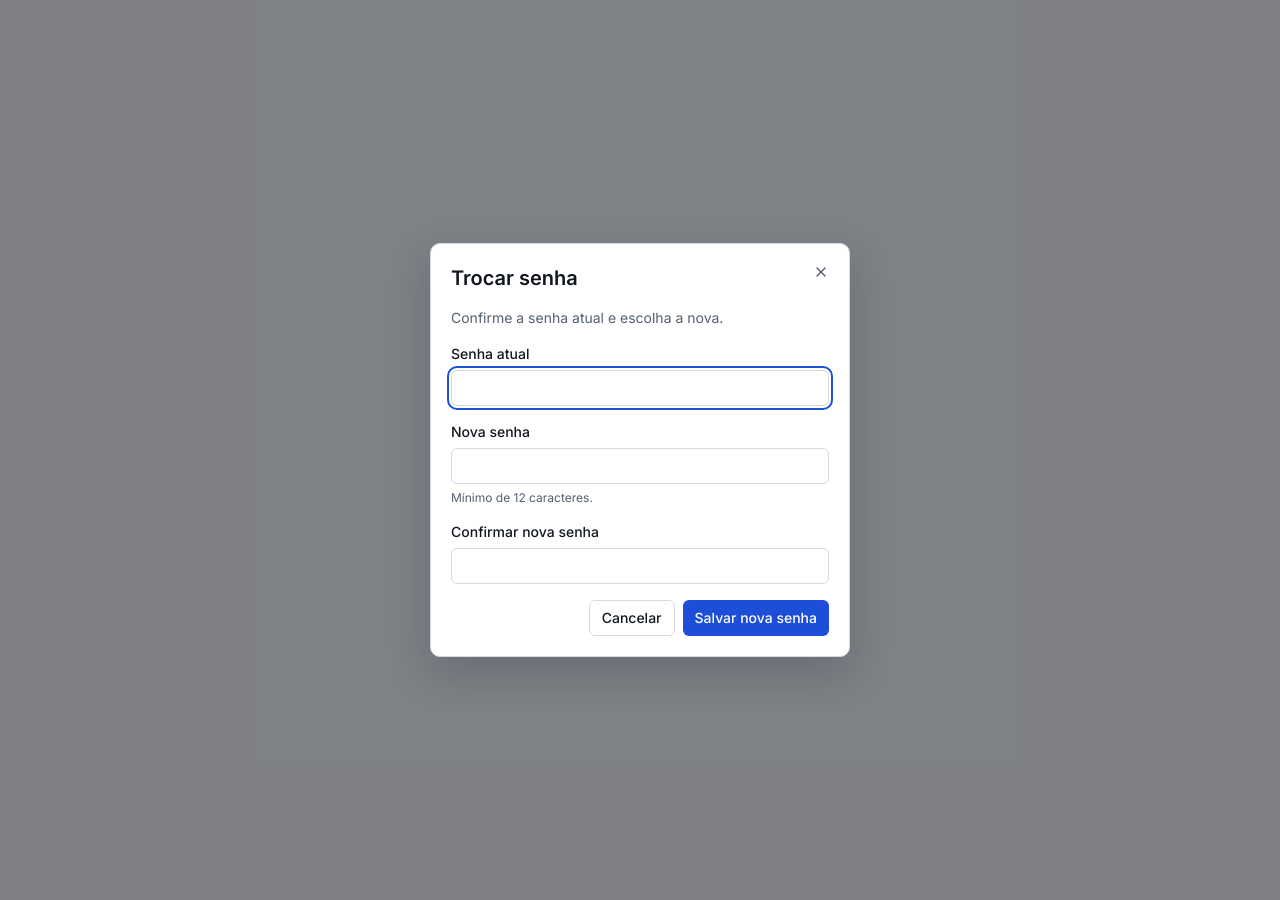
ChangePasswordDialog › avisa quando a confirmação é diferente da nova senha
This screenshot has width=1280, height=900.
In the password field labelled "Senha atual": (640, 388) [451, 370, 829, 406], type "ana.logos2026"
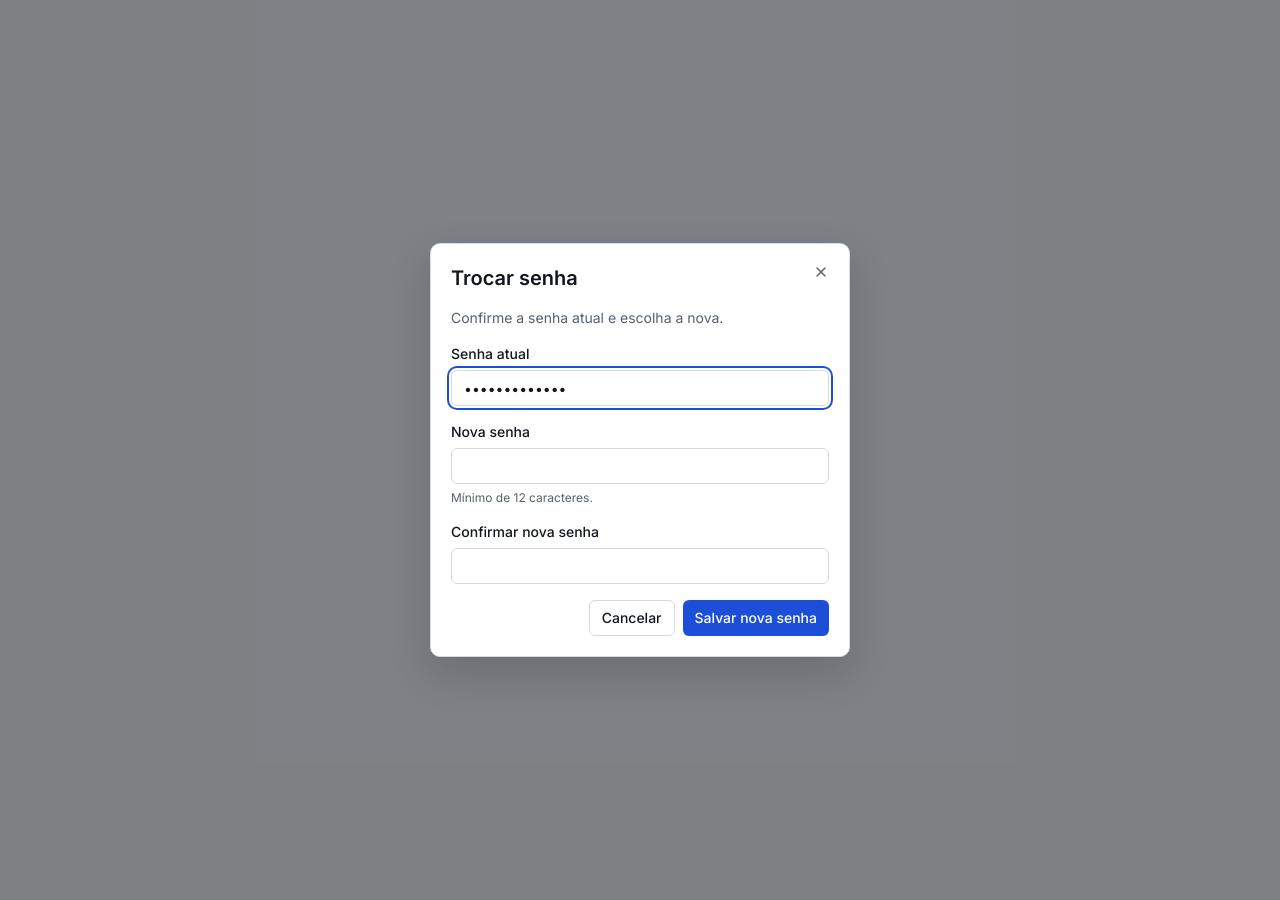
In the password field labelled "Nova senha": (640, 466) [451, 448, 829, 484], type "senha-nova-2026"
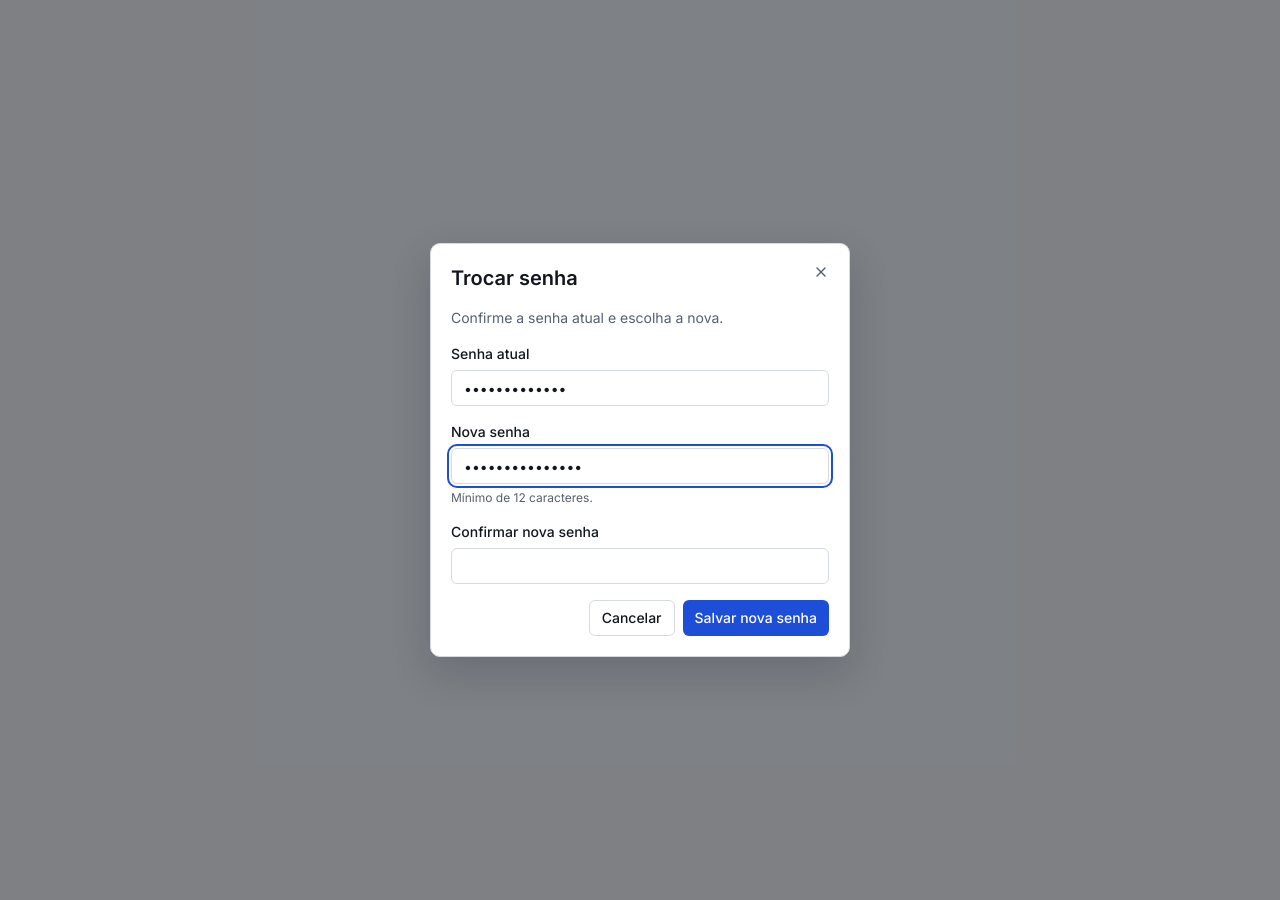
In the password field labelled "Confirmar nova senha": (640, 566) [451, 548, 829, 584], type "senha-nova-2027"
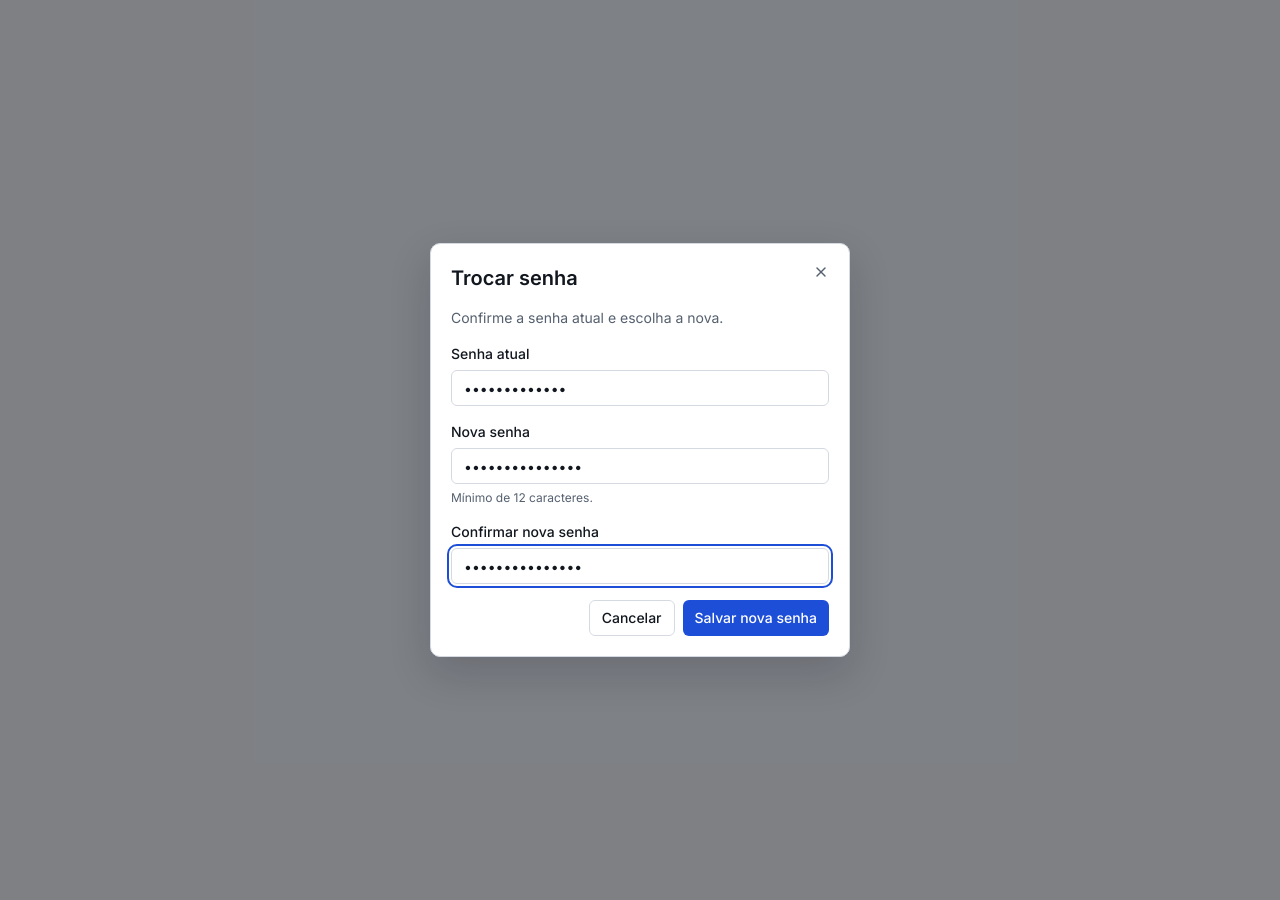
Click the button "Salvar nova senha": (756, 618) [682, 600, 829, 636]
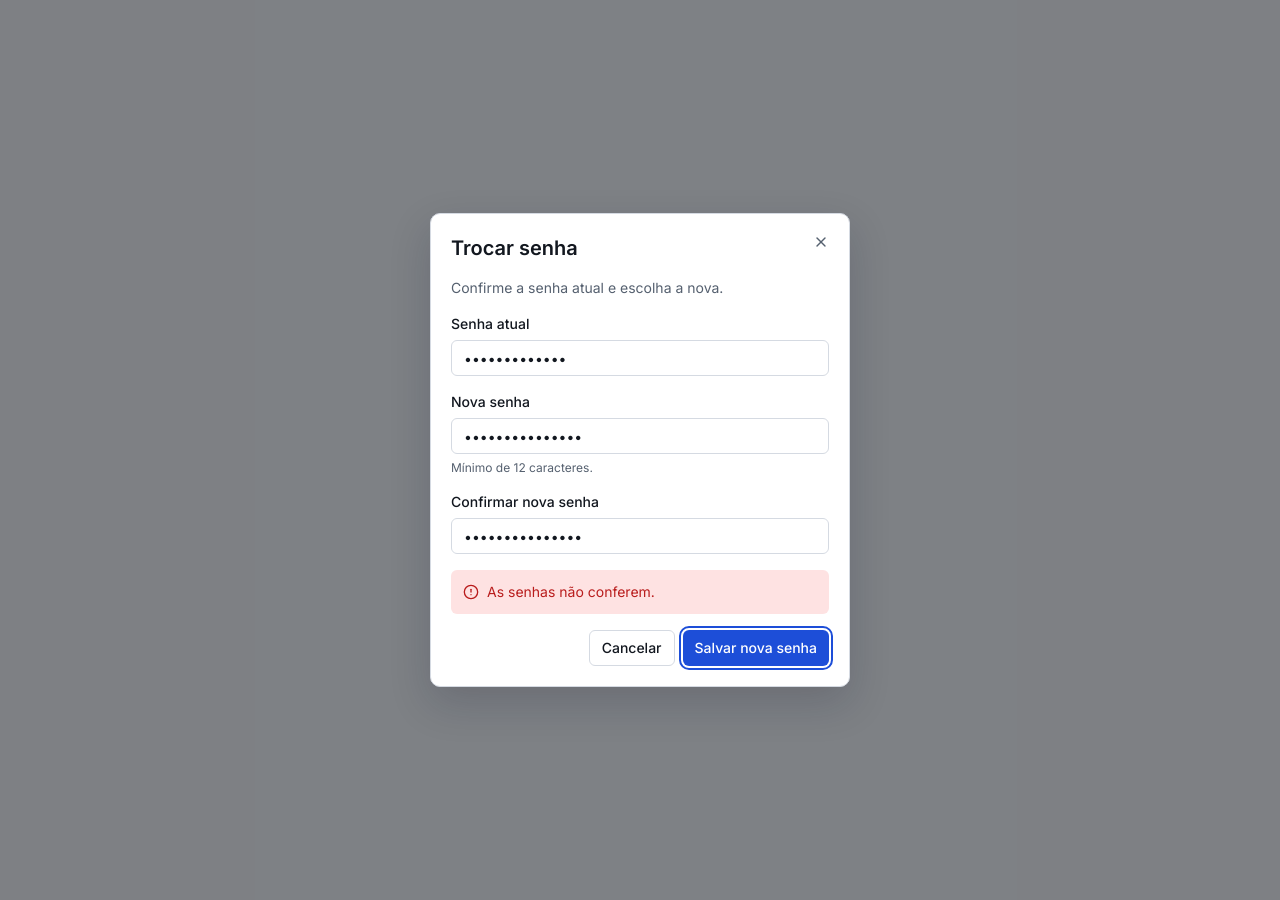
Result: the message reads "As senhas não conferem." at [487, 583, 655, 600]
